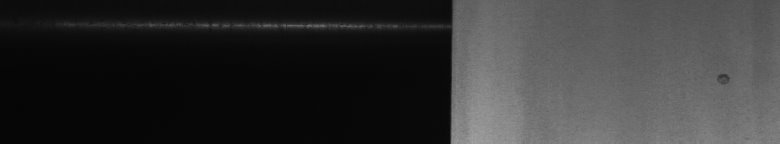fi: (716, 68, 731, 92)
